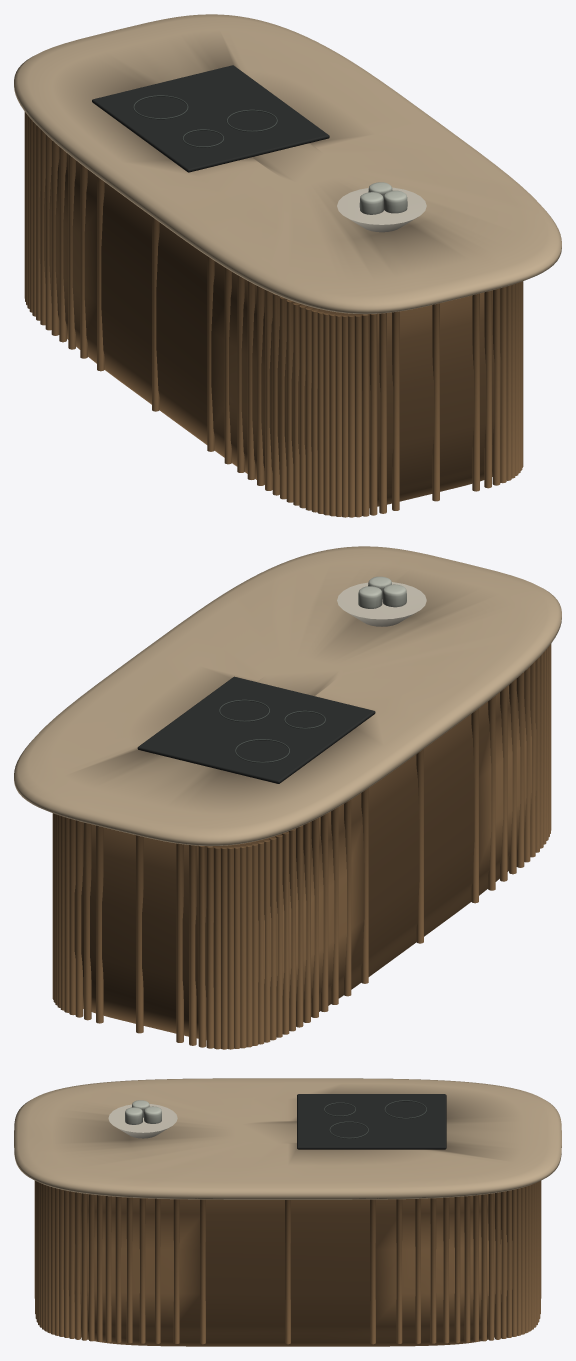
The model's file is oval-island.glb.
3 renders of one model, top to bottom at view 1: azimuth 30°, elevation 25°; view 2: azimuth 150°, elevation 25°; view 3: azimuth 270°, elevation 25°, orthographic. The views are drawn at different scales.
Parts seen in each view (by area): view 1: oval-island; view 2: oval-island; view 3: oval-island.
Part boxes in pixels (left/top/right/bottom): oval-island: left=14, top=14, right=561, bottom=517; oval-island: left=14, top=546, right=561, bottom=1049; oval-island: left=14, top=1078, right=561, bottom=1346.
Size of the model in its own units: 1.2 by 1 by 2.42.
